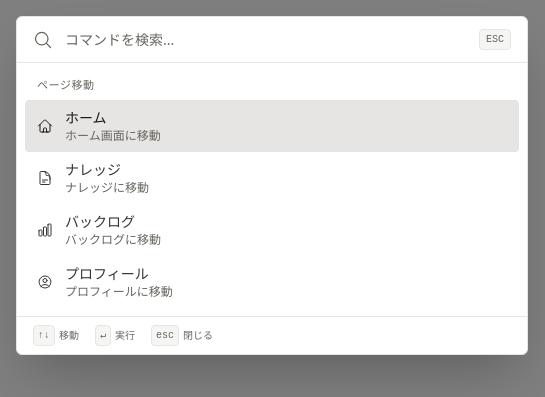
Scenario: CommandPalette › 検索結果が空のとき「該当するコマンドがありません」と表示
In the field with placeholder "コマンドを検索...": (266, 40) left=65, top=30, right=467, bottom=50, type "xxxxxxxxx"
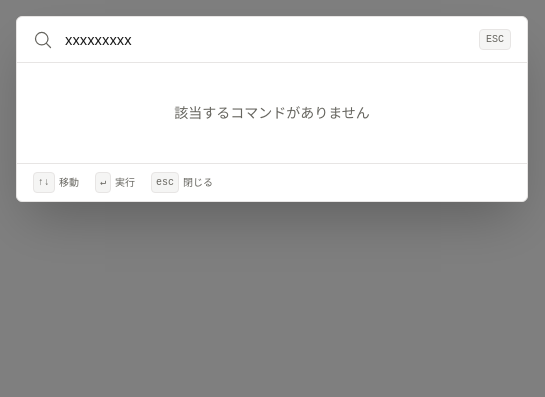
Check: the text "該当するコマンドがありません" is shown, box left=174, top=103, right=370, bottom=122
